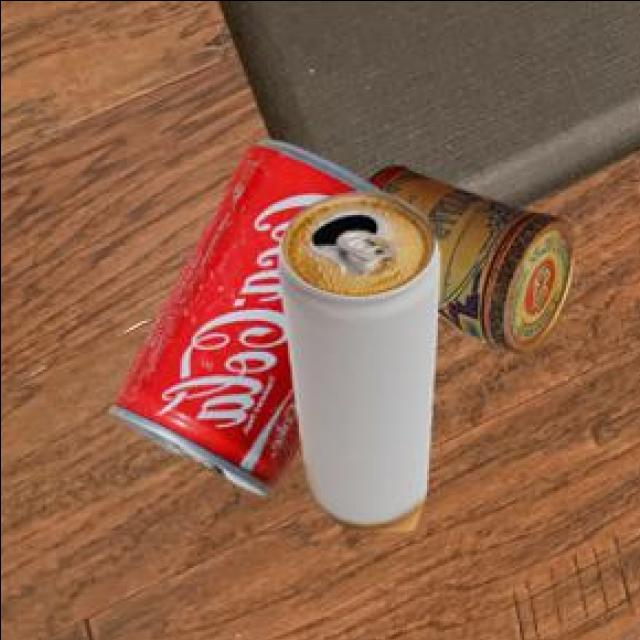logam: (111, 136, 385, 491), (281, 189, 442, 529), (372, 162, 577, 350)
